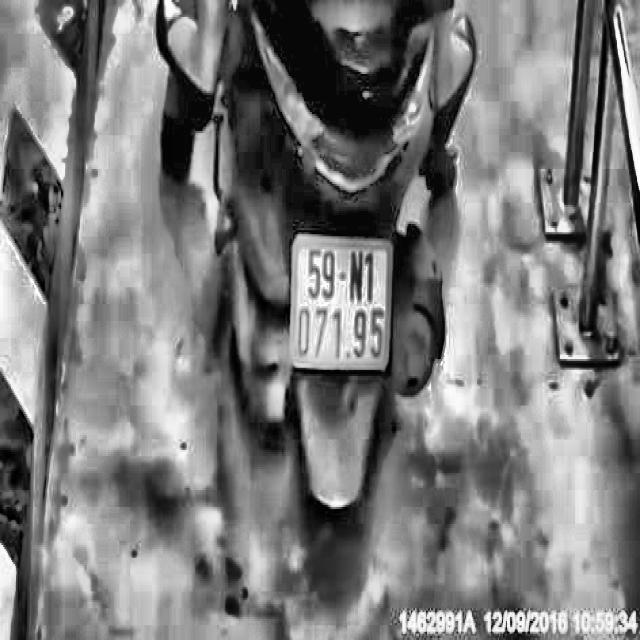plate: (289, 224, 394, 375)
